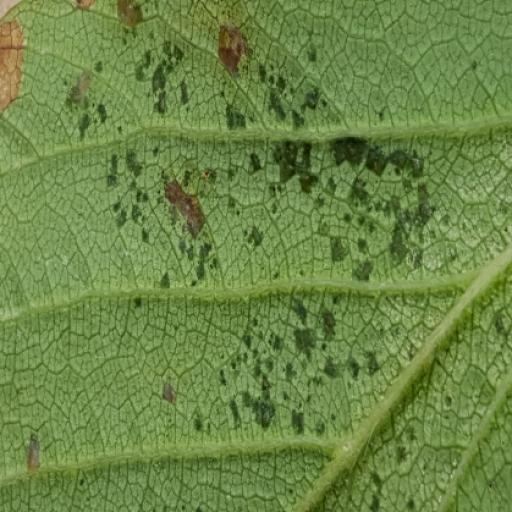Angular Leafspot: (0, 0, 511, 511)
